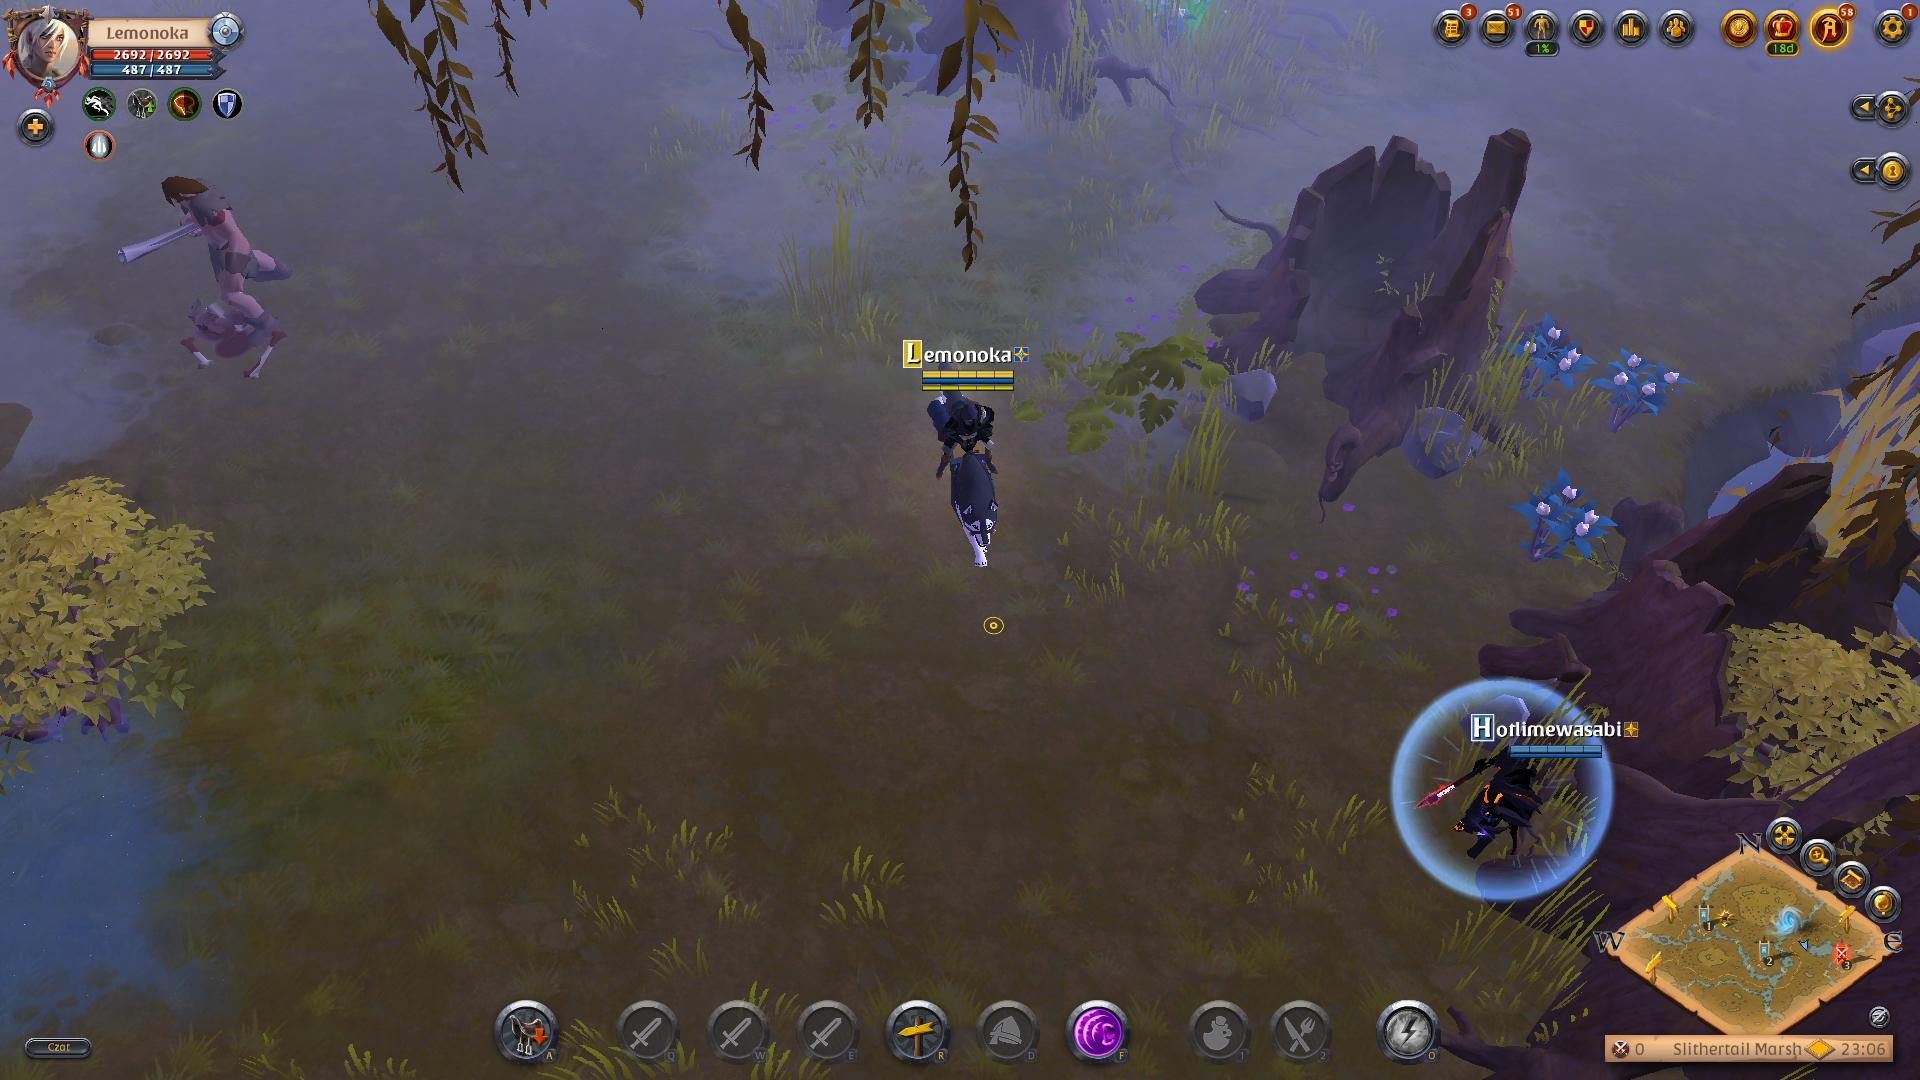fiber tier 4: (1515, 460, 1618, 576), (1596, 345, 1691, 438), (1507, 320, 1597, 409)
